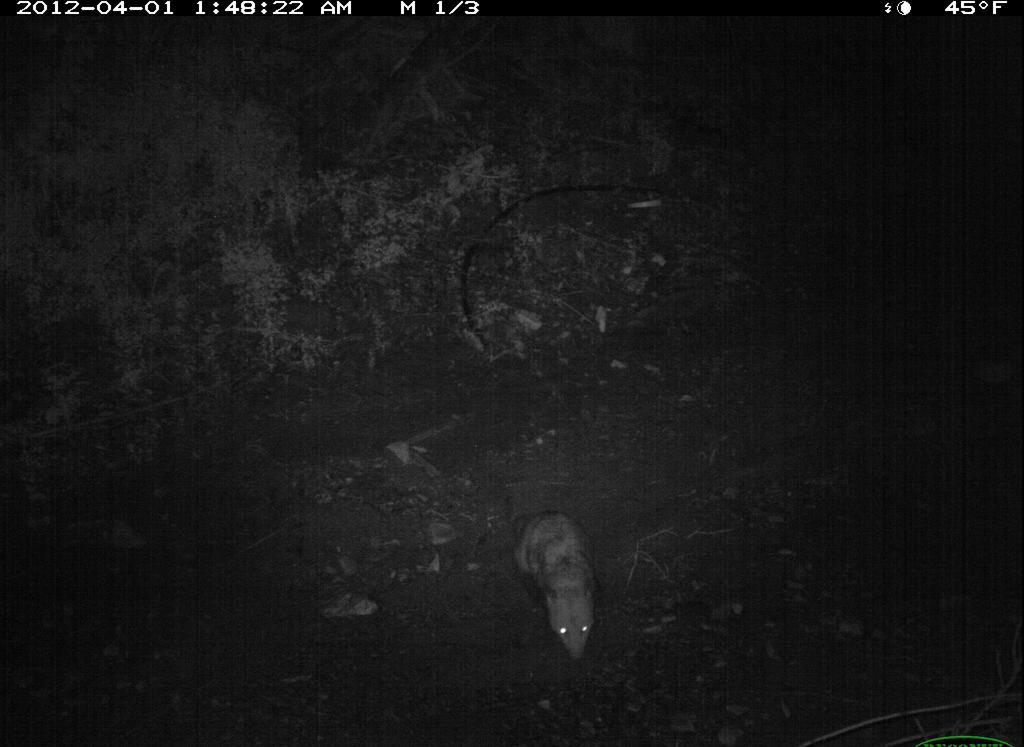opossum: (495, 489, 620, 669)
